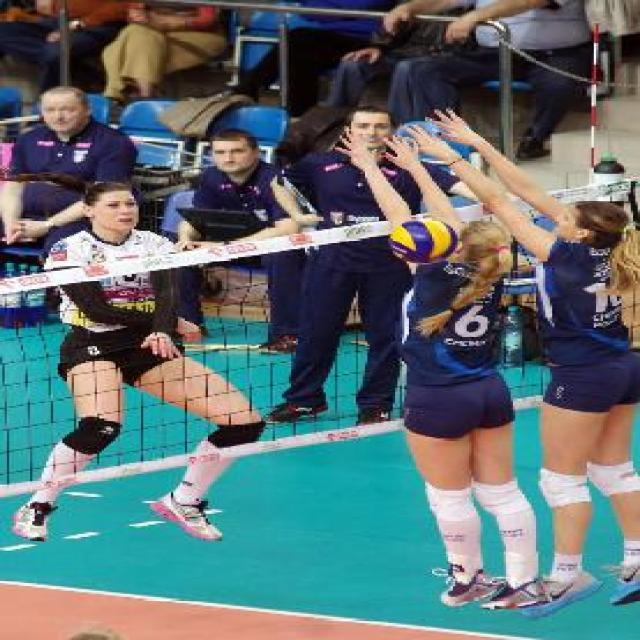volleyball: (390, 218, 457, 264)
